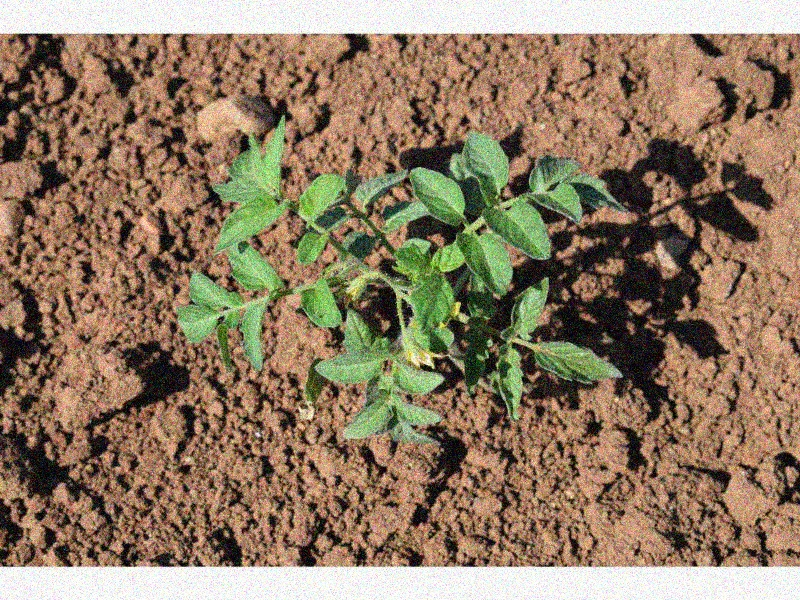tomato: (178, 116, 621, 447)
